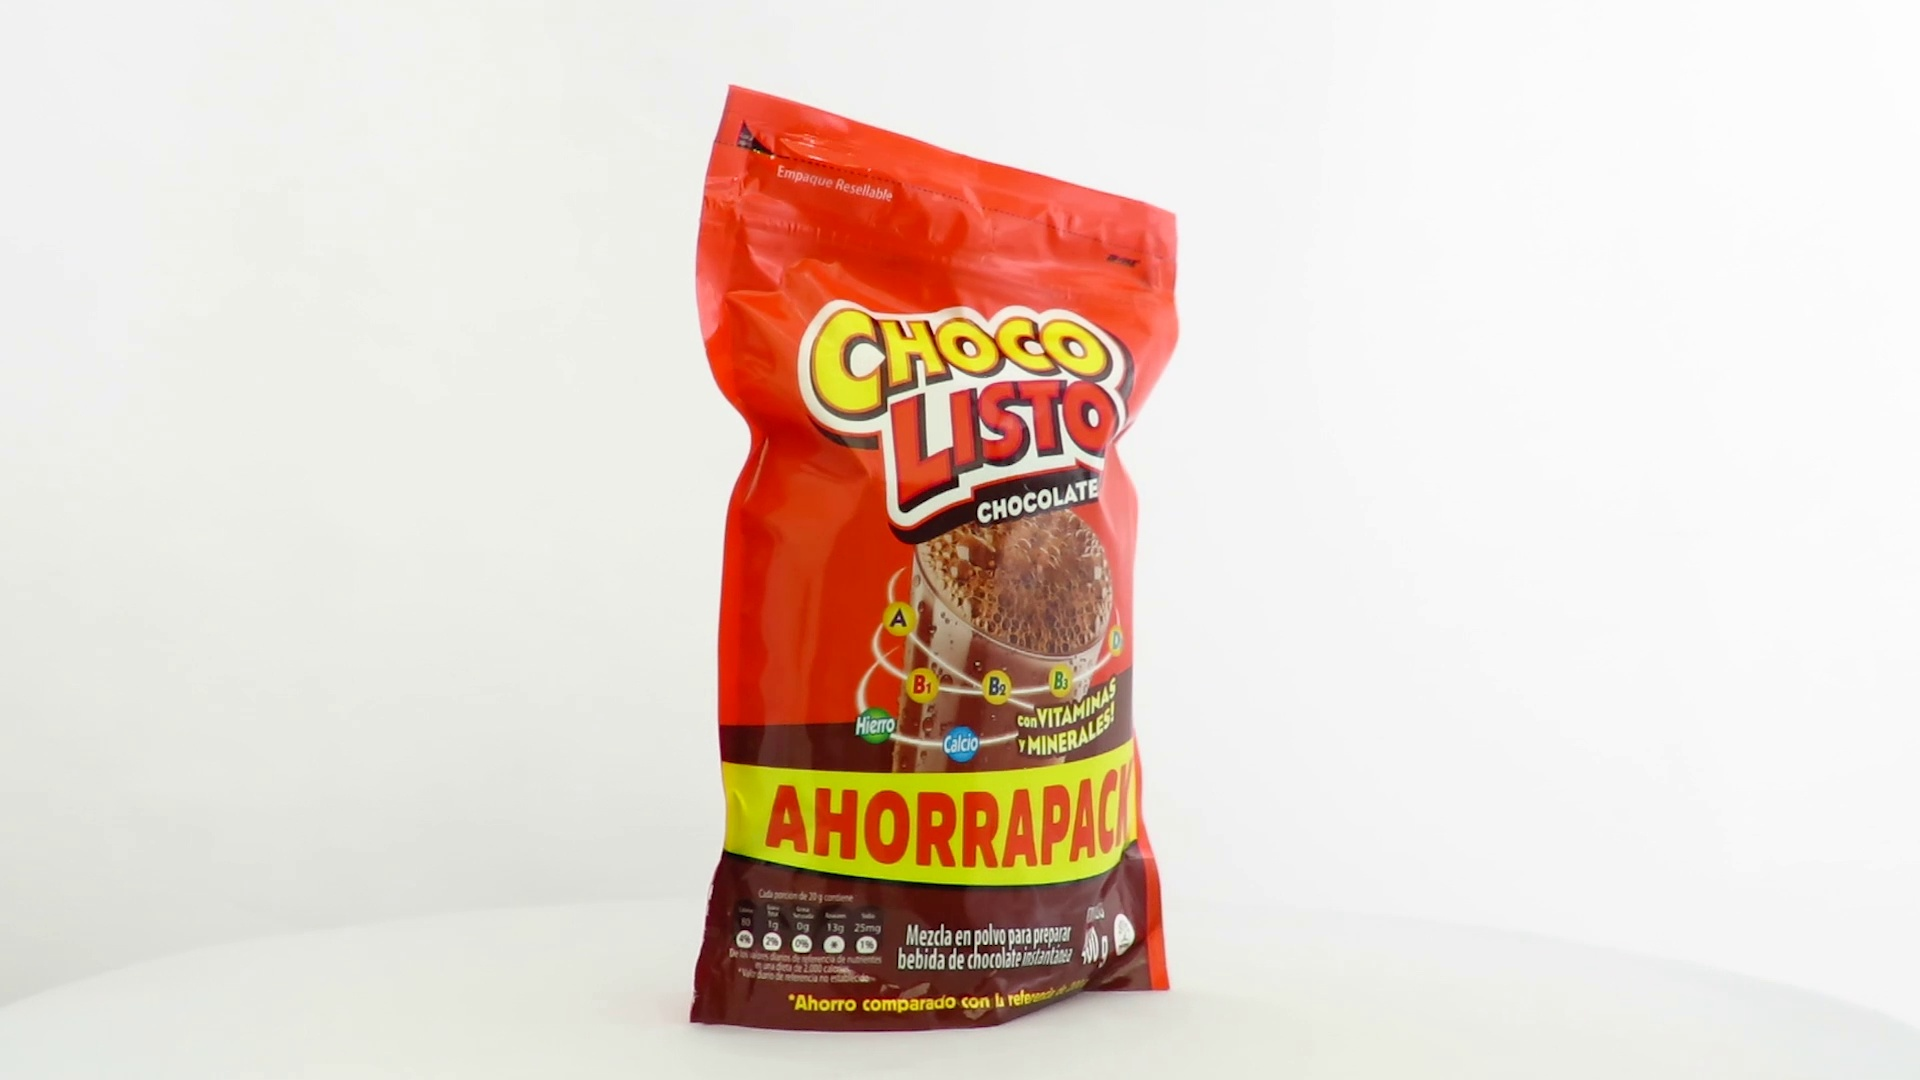COL0170103DYP40000: (684, 79, 1185, 1038)
